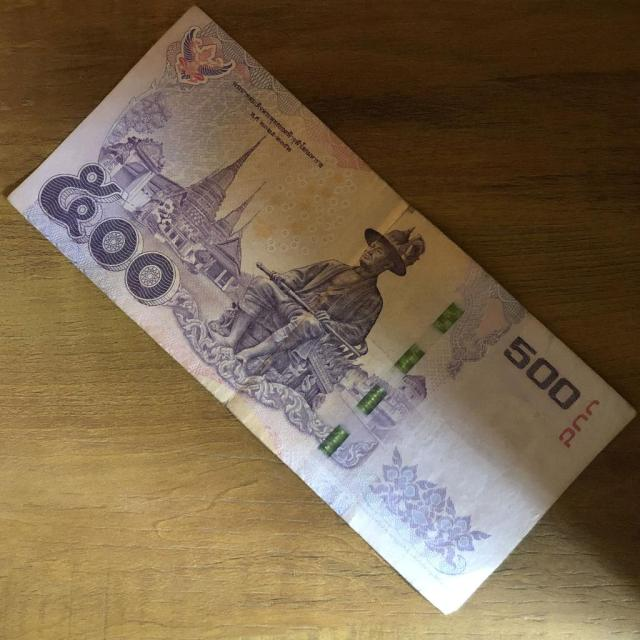THAI500: (10, 8, 638, 616)
